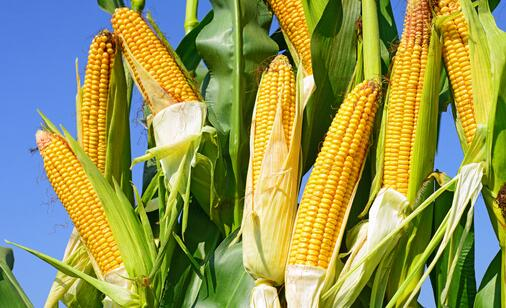corn: (30, 133, 143, 286), (113, 7, 208, 169), (290, 82, 369, 274), (247, 60, 296, 280), (384, 3, 433, 205), (443, 21, 500, 165), (81, 35, 122, 181)
